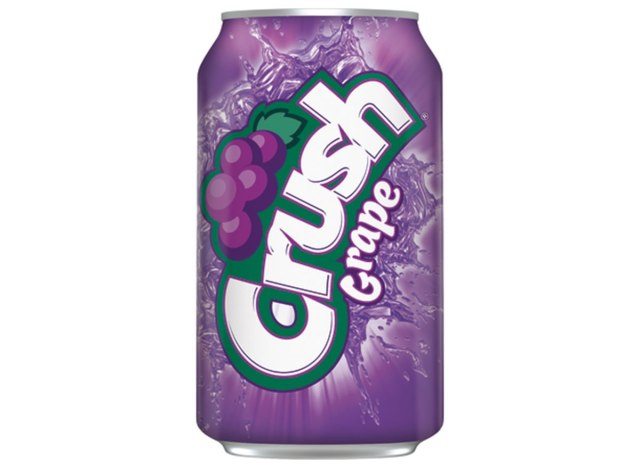can: (196, 10, 446, 461)
